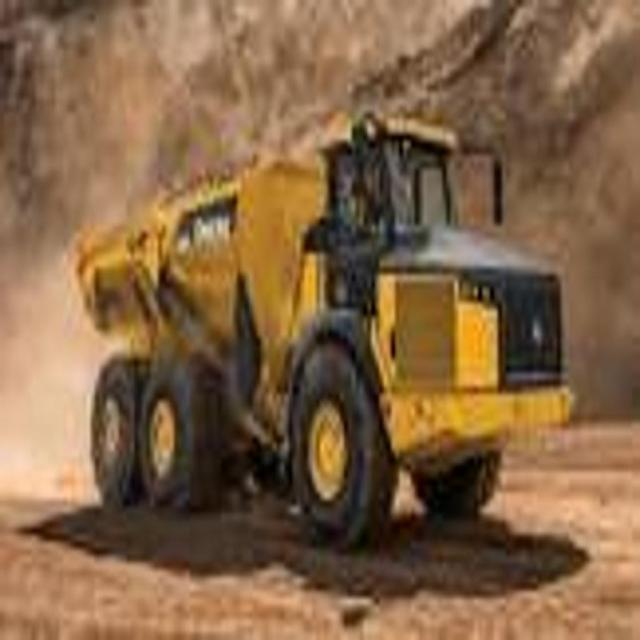dump_truck: (72, 103, 577, 563)
